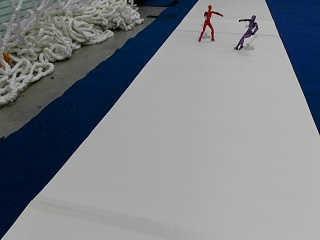pedestrian: (198, 4, 223, 42), (234, 13, 258, 49)
